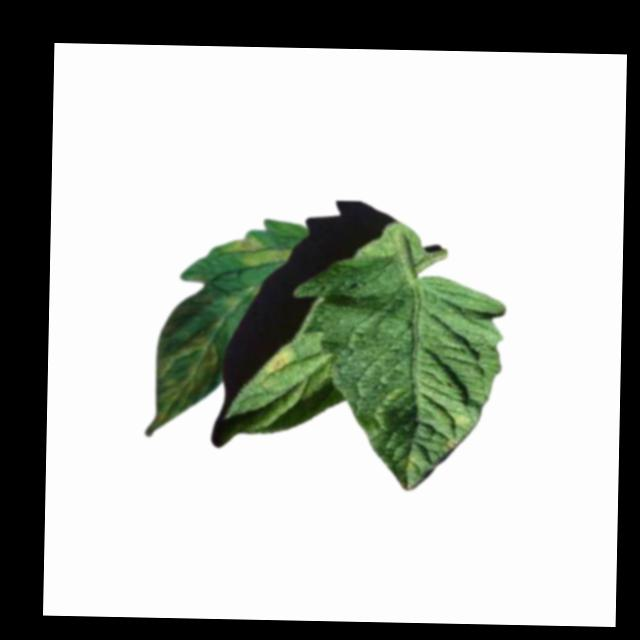Leaf_Mold: (144, 332, 220, 440), (218, 234, 294, 267), (441, 405, 474, 455), (260, 346, 301, 379)
